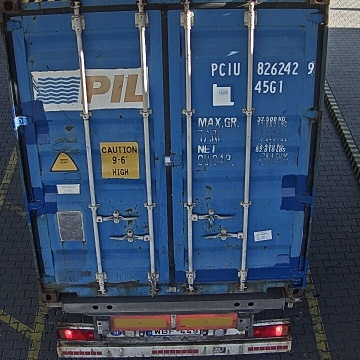serial_id: (211, 61, 315, 75)
